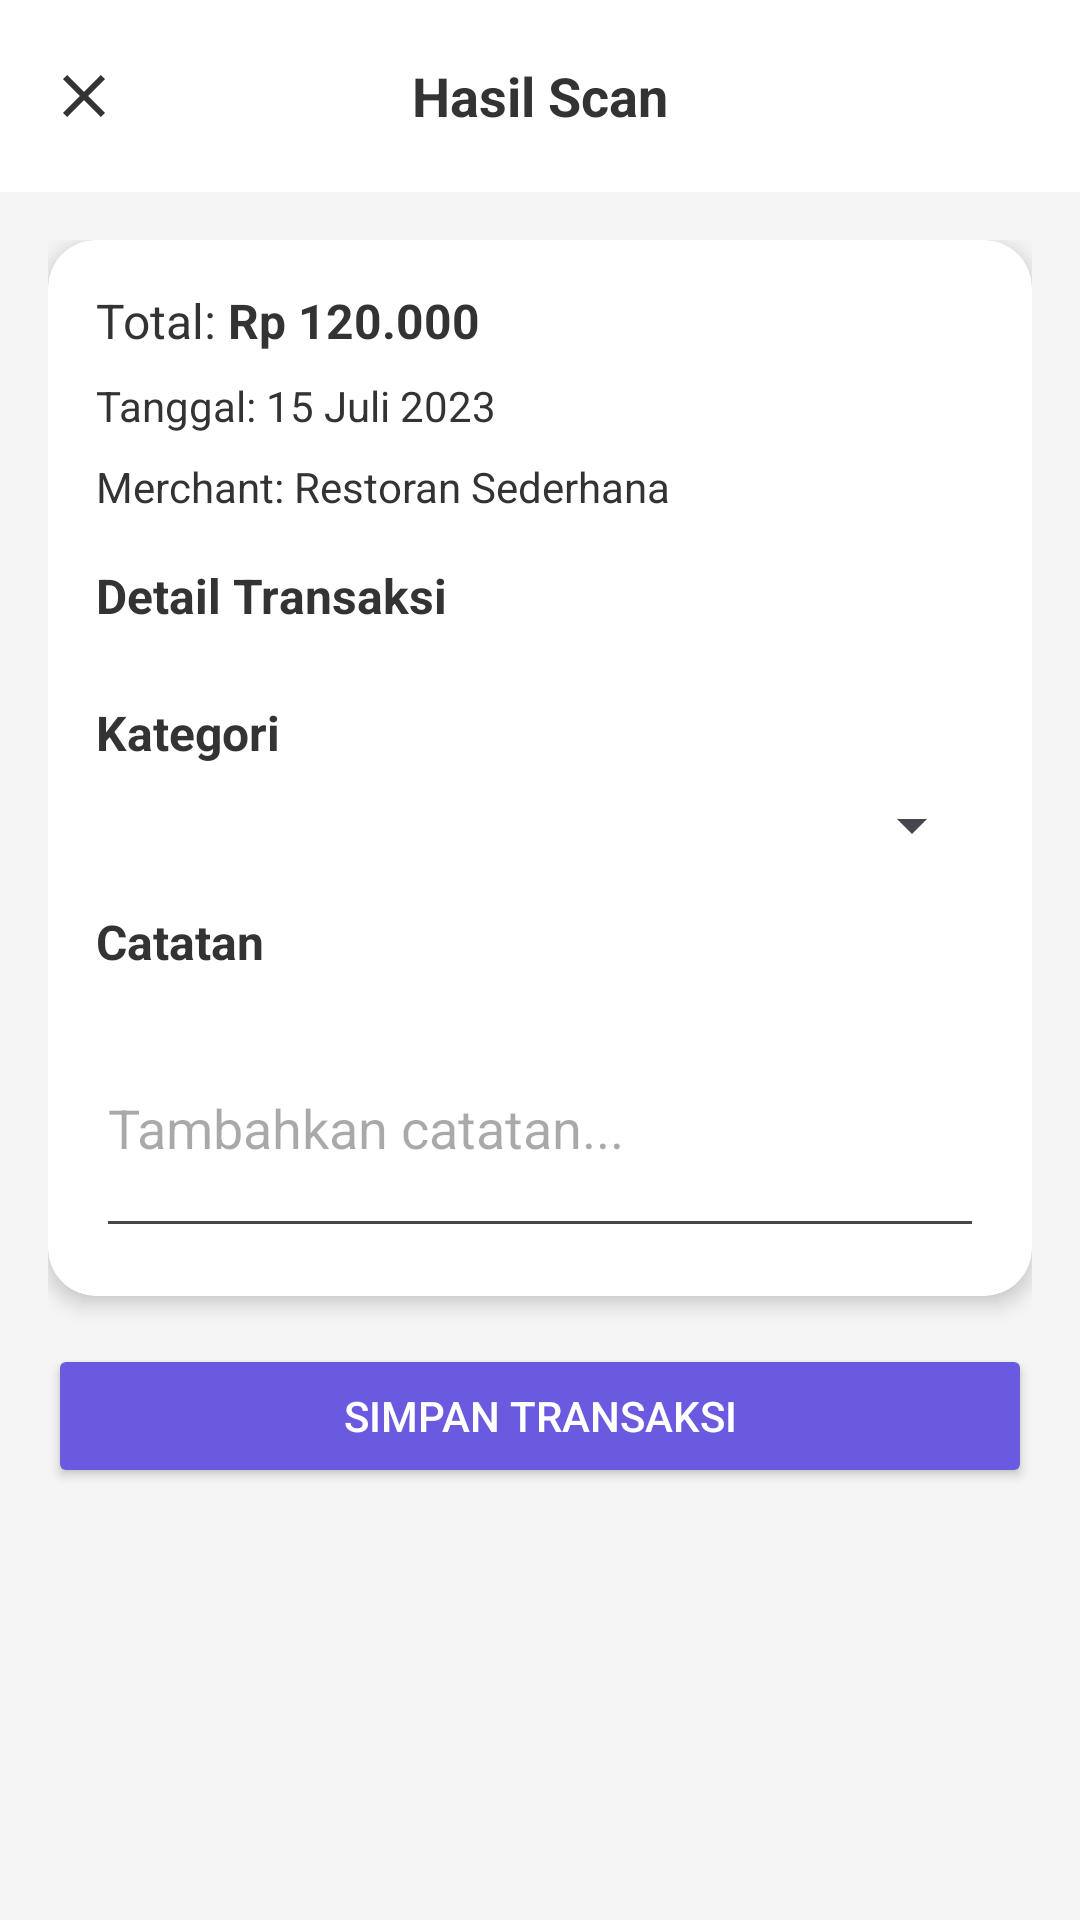

Icons on this 1080×1920 Android screen, each with the point to tap as (x,y):
close: (84,96)
